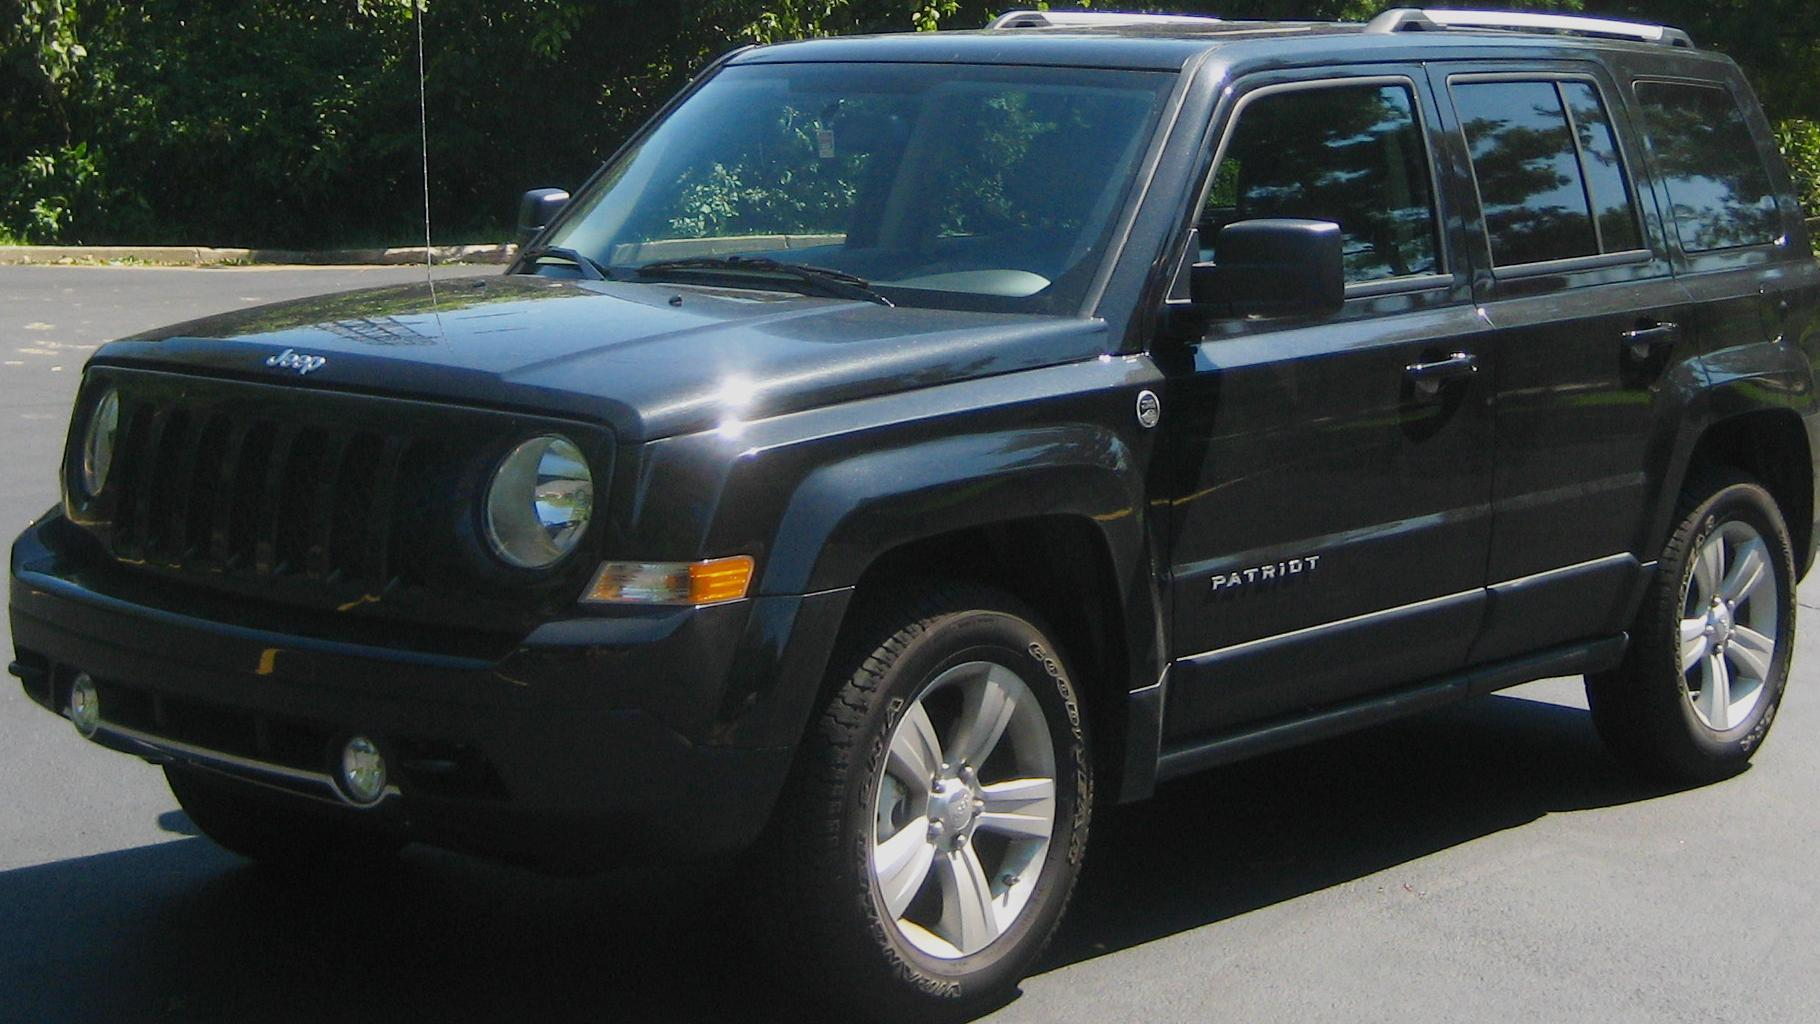front_view: (17, 325, 784, 865)
headlight: (462, 400, 774, 621)
side_glass: (1131, 41, 1806, 338)
